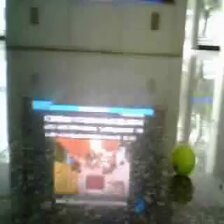tennis: (170, 145, 196, 173)
